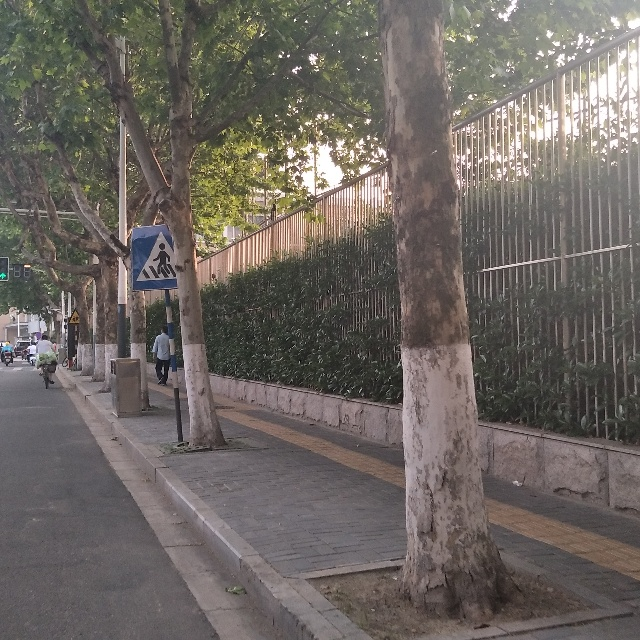crosswalk: (128, 223, 187, 292)
